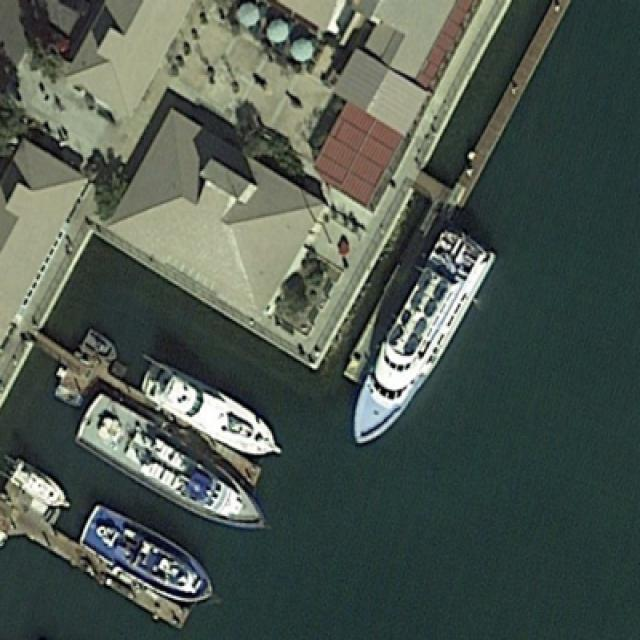boat: (347, 224, 501, 446), (70, 389, 268, 532), (136, 361, 283, 457), (80, 502, 214, 607), (6, 453, 74, 511)
